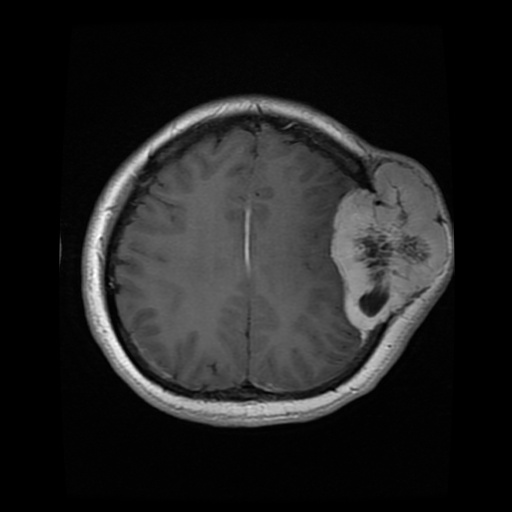meningioma: (331, 163, 446, 330)
